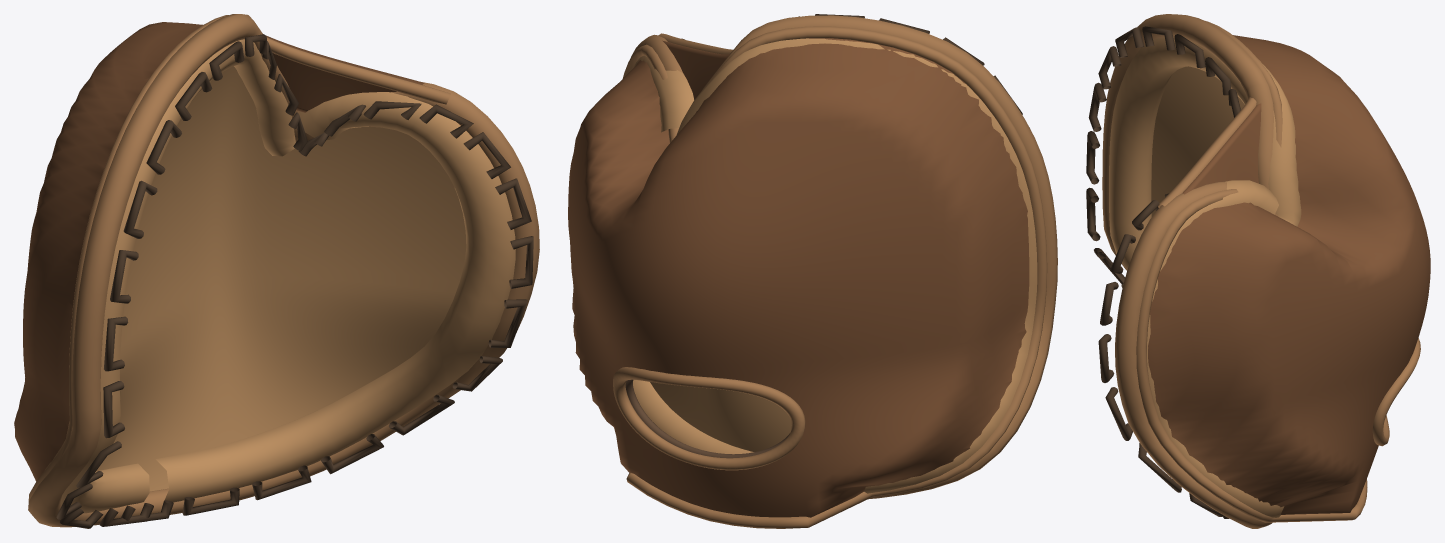
The model's file is catch-glove.glb.
3 renders of one model, left to right at view 1: azimuth 30°, elevation 25°; view 2: azimuth 150°, elevation 25°; view 3: azimuth 270°, elevation 25°, orthographic. The views are drawn at different scales.
Visible parts, largest first — view 1: catch glove; view 2: catch glove; view 3: catch glove.
Part boxes in pixels (x1,y1,x2,y2): catch glove: (14,14,539,528); catch glove: (568,14,1057,528); catch glove: (1086,14,1430,528).
Bounding box in the file's own units: 0.2979 × 0.3045 × 0.2119.
